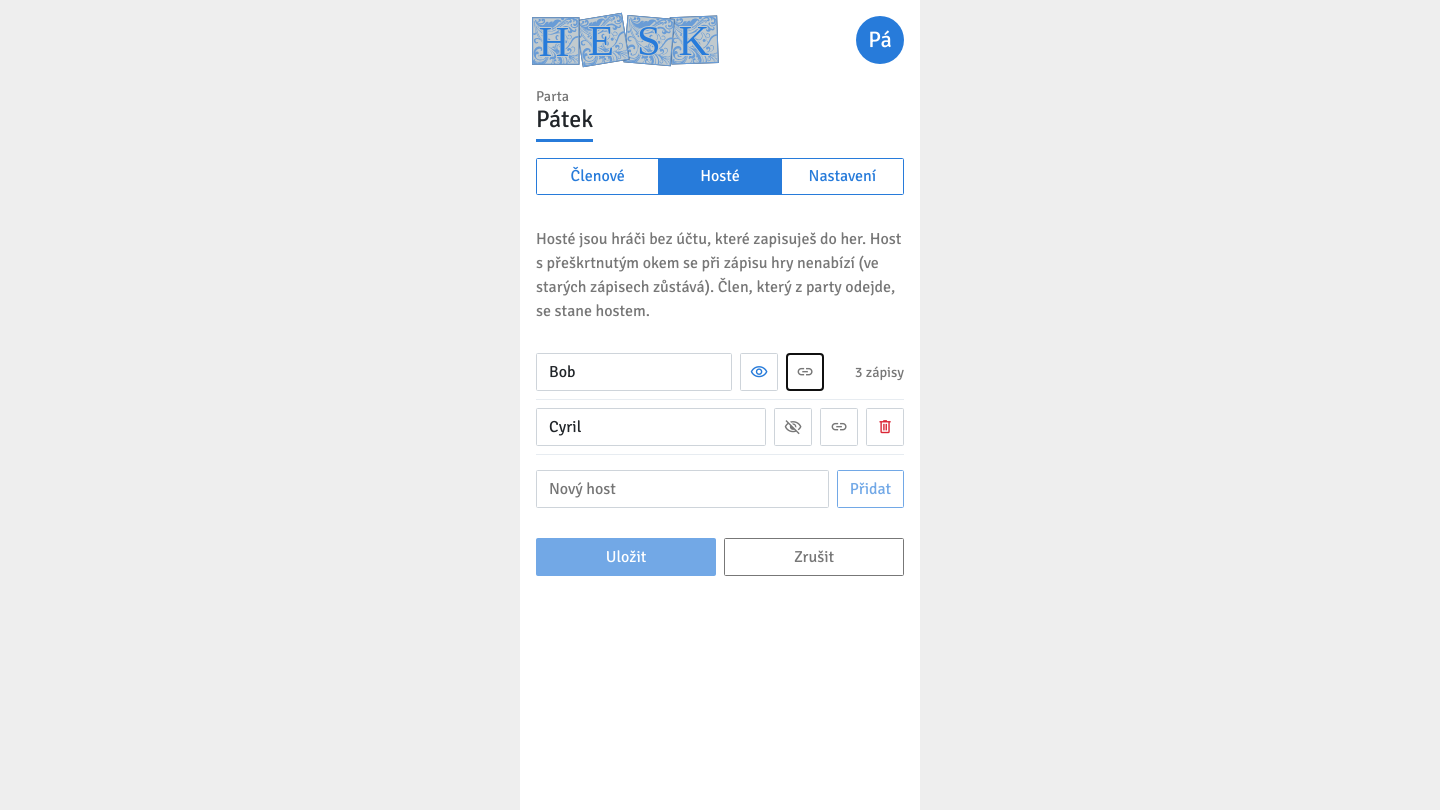
Test: party guests (/parties/:id/guests) › turning a guest into a member › closes without doing anything by the cross and Escape
Click the button named "Propojit hosta Bob s členem" at (805, 372), box x1=786 y1=354 x2=824 y2=392
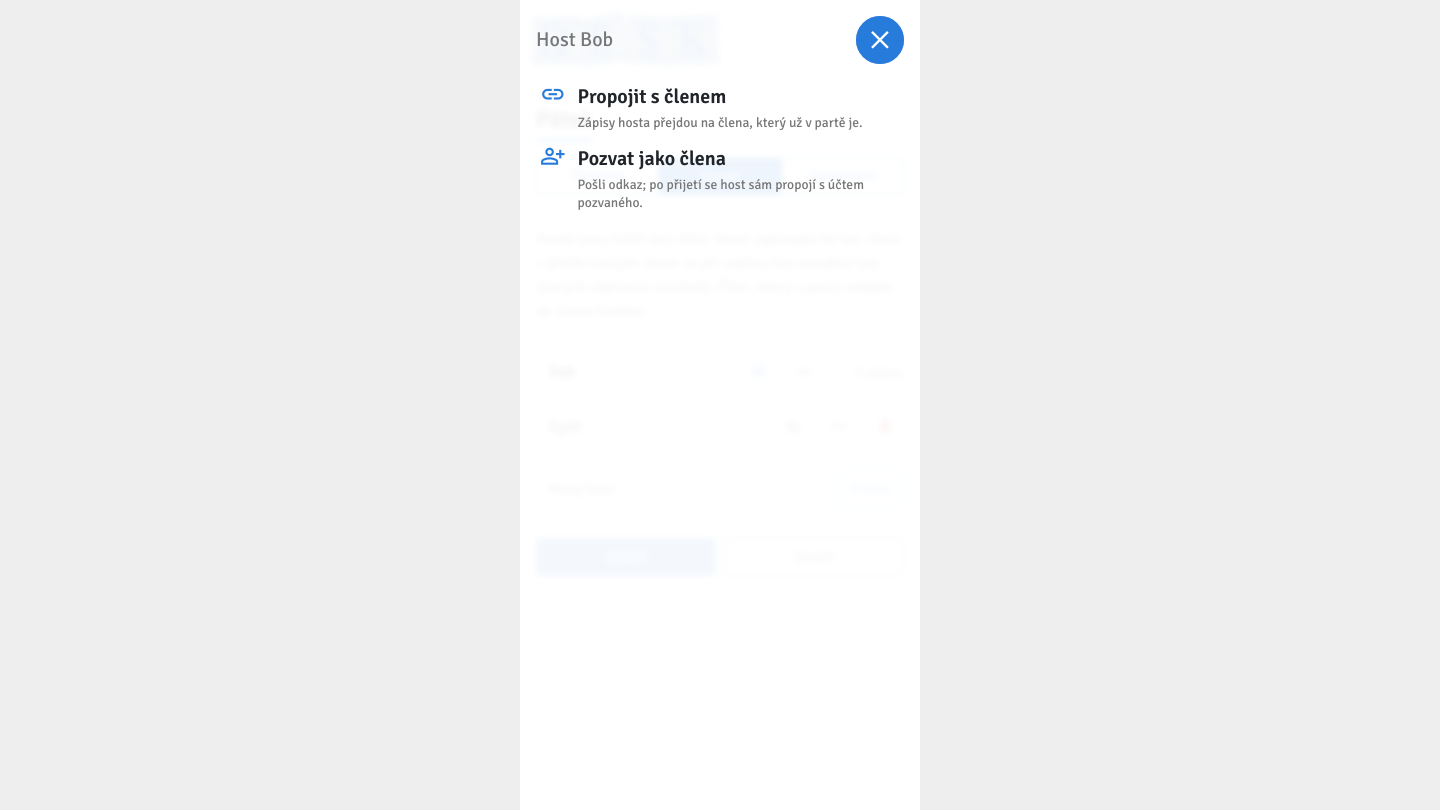
Click the button named "Zavřít" at (880, 40), box x1=856 y1=16 x2=904 y2=64
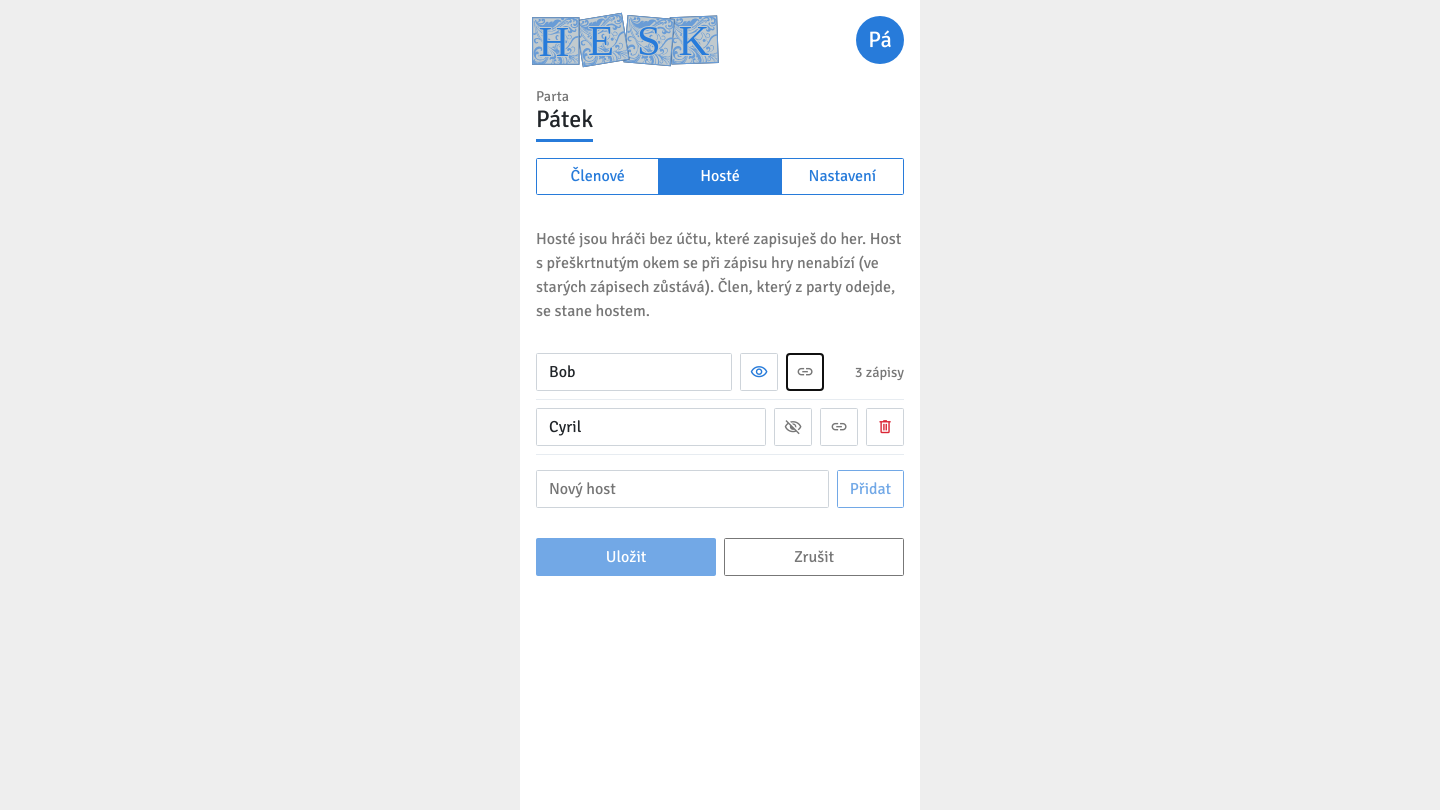
Now the dialog is gone
Click the button named "Propojit hosta Bob s členem" at (805, 372), box x1=786 y1=354 x2=824 y2=392
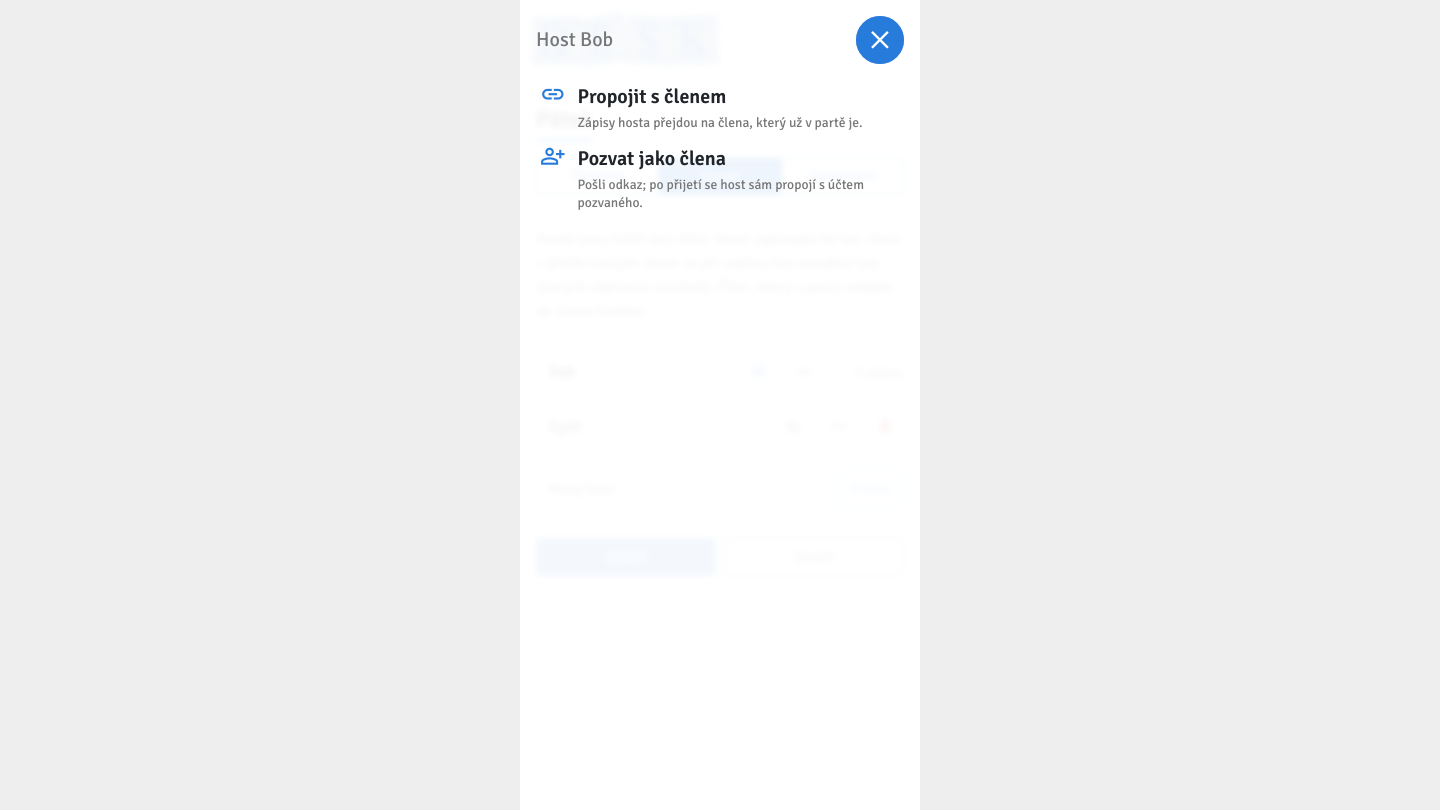
Press Escape in the dialog, box x1=520 y1=0 x2=920 y2=809
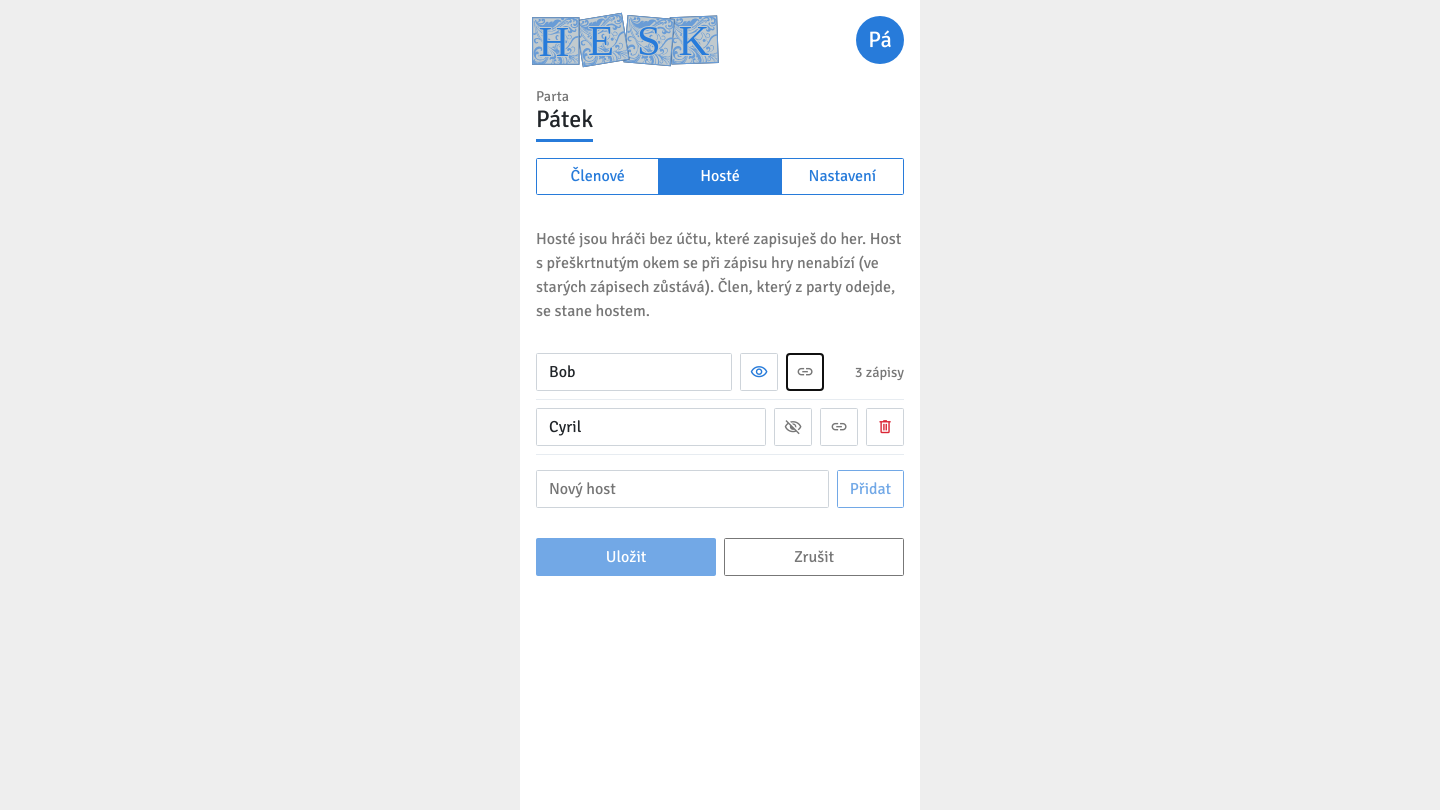
Now the dialog is gone
